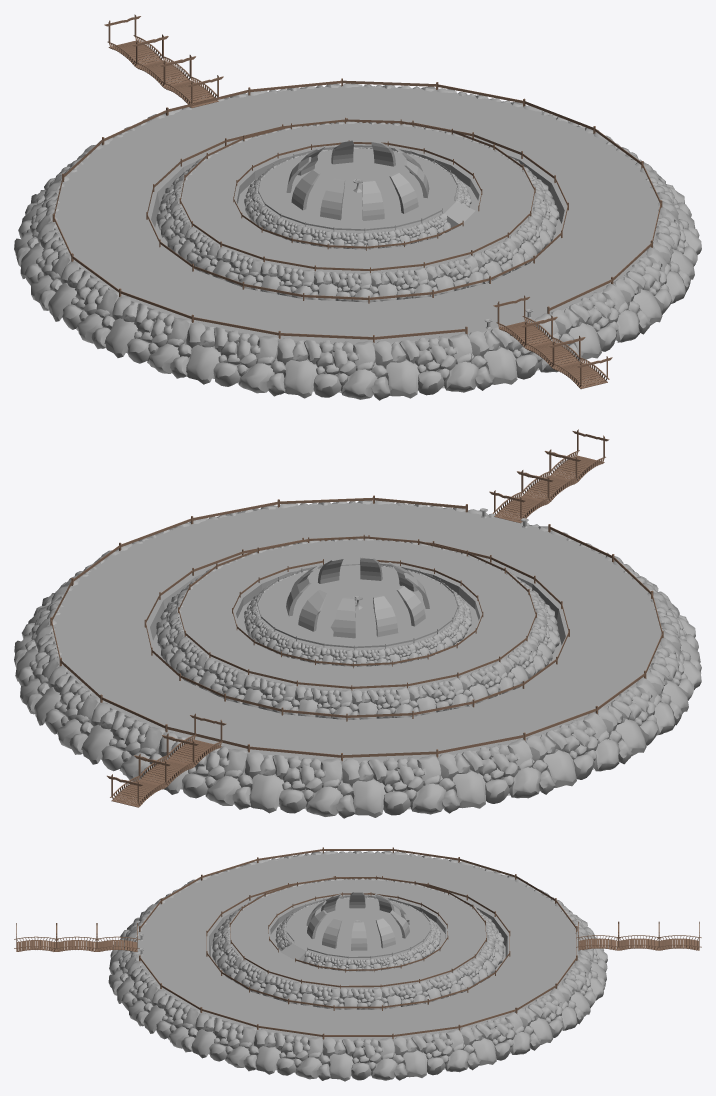
Rendered from Level_Cliff_2.fbx.
The picture shows the model from 3 angles, top to bottom: view 1: azimuth 30°, elevation 25°; view 2: azimuth 150°, elevation 25°; view 3: azimuth 270°, elevation 25°; orthographic projection. The views are drawn at different scales.
Visible parts, largest first — view 1: Outside_circle, Middle_circle1, Inside_circle, Middle_fence_2, Middle_fence_1, Bridge_3, Bridge_4, Bridge_6, Bridge_1, Bridge_5, Bridge_2, Inside_fence; view 2: Outside_circle, Middle_circle1, Inside_circle, Middle_fence_2, Middle_fence_1, Bridge_6, Bridge_1, Bridge_3, Bridge_4, Bridge_5, Bridge_2, Inside_fence; view 3: Outside_circle, Middle_circle1, Inside_circle, Middle_fence_2, Middle_fence_1, Bridge_5, Bridge_2, Bridge_4, Bridge_6, Bridge_1, Bridge_3, Inside_fence.
Boxes of the visible parts, x1,y1,x2,y2 form: Outside_circle: (14,78,701,400); Middle_circle1: (156,121,559,302); Inside_circle: (244,140,475,249); Middle_fence_2: (179,117,535,272); Middle_fence_1: (233,140,482,250); Bridge_3: (549,336,612,389); Bridge_4: (159,55,223,107); Bridge_6: (104,14,167,67); Bridge_1: (493,295,556,348); Bridge_5: (132,34,195,87); Bridge_2: (521,316,584,368); Inside_fence: (258,145,457,232); Outside_circle: (14,495,701,818); Middle_circle1: (156,538,559,719); Inside_circle: (244,557,471,666); Middle_fence_2: (178,534,536,690); Middle_fence_1: (232,559,483,668); Bridge_6: (107,754,170,807); Bridge_1: (489,470,553,523); Bridge_3: (545,429,609,482); Bridge_4: (162,713,226,766); Bridge_5: (134,734,198,786); Bridge_2: (517,450,581,502); Inside_fence: (257,563,458,650); Outside_circle: (108,847,607,1081); Middle_circle1: (212,878,504,1009); Inside_circle: (275,892,440,971); Middle_fence_2: (229,875,486,988); Middle_fence_1: (268,892,448,972); Bridge_5: (616,922,661,950); Bridge_2: (54,923,99,951); Bridge_4: (576,921,620,950); Bridge_6: (657,921,701,950); Bridge_1: (95,923,139,951); Bridge_3: (14,923,58,951); Inside_fence: (286,895,430,958).
Size of what is drawn, in the model's own units: 577 by 90.16 by 795.
